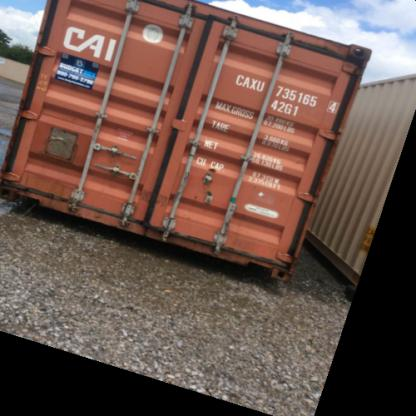Damage: (179, 234, 290, 269), (11, 182, 98, 223), (108, 213, 173, 238), (136, 182, 172, 211)
